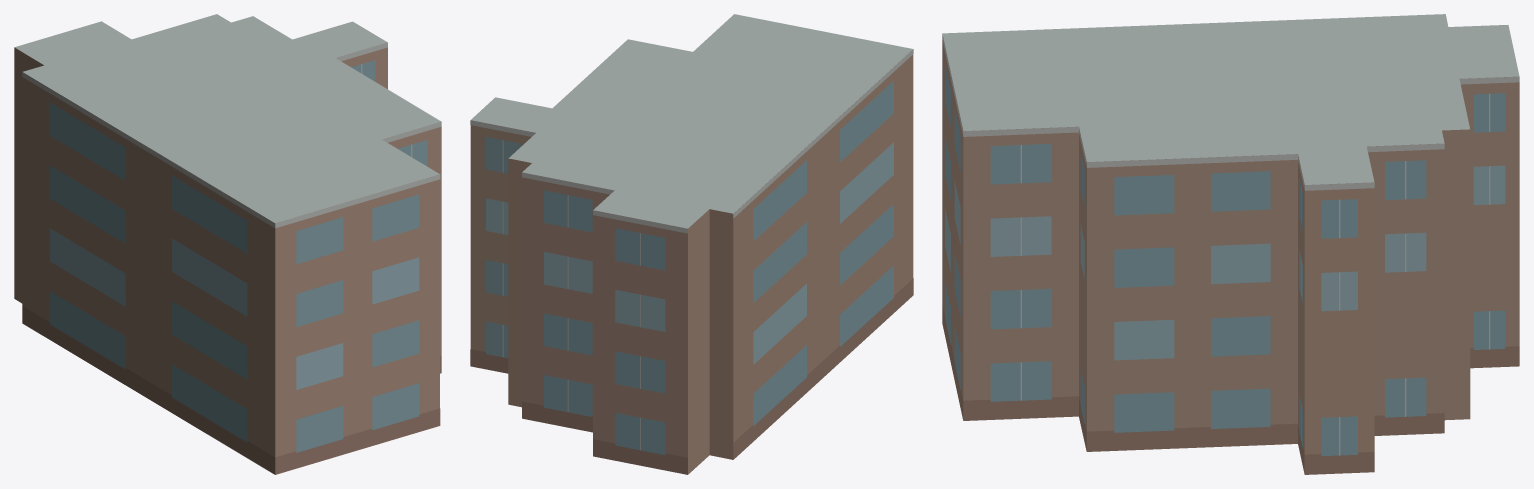
Rendered from residential-1965c707-69cd-4706-b11e-e40620a3c54d.glb.
The picture shows the model from 3 angles, left to right: view 1: azimuth 30°, elevation 25°; view 2: azimuth 150°, elevation 25°; view 3: azimuth 270°, elevation 25°; orthographic projection. The views are drawn at different scales.
Parts seen in each view (by area): view 1: residential-1965c707-69cd-4706-b11e-e40620a3c54d.tmp; view 2: residential-1965c707-69cd-4706-b11e-e40620a3c54d.tmp; view 3: residential-1965c707-69cd-4706-b11e-e40620a3c54d.tmp.
Part boxes in pixels (x1,y1,x2,y2): residential-1965c707-69cd-4706-b11e-e40620a3c54d.tmp: (14, 14, 441, 474); residential-1965c707-69cd-4706-b11e-e40620a3c54d.tmp: (470, 14, 913, 474); residential-1965c707-69cd-4706-b11e-e40620a3c54d.tmp: (942, 14, 1519, 474).
Size of the model in its own units: 15.45 by 12.2 by 22.03.
